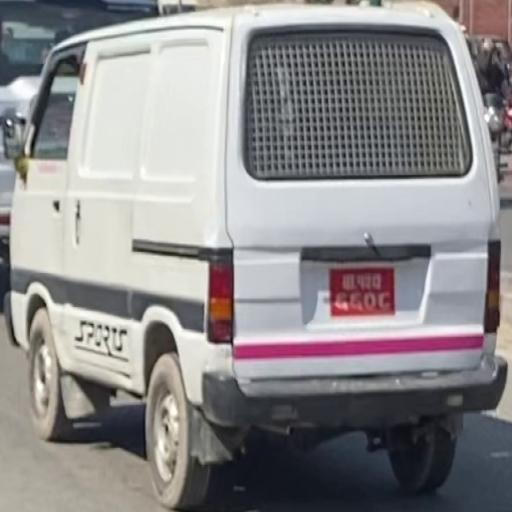license_plate: (327, 261, 400, 323)
